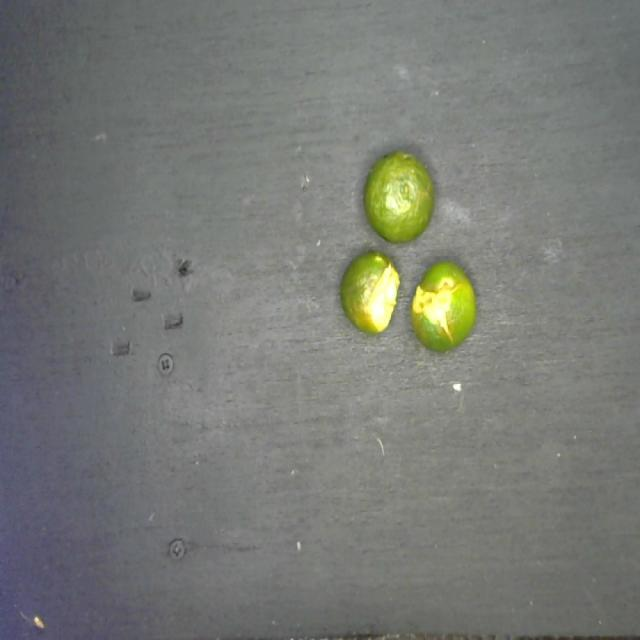biodegradable: (335, 144, 480, 356)
